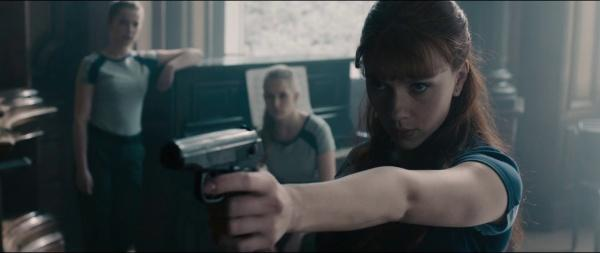Gun: (159, 124, 260, 204)
